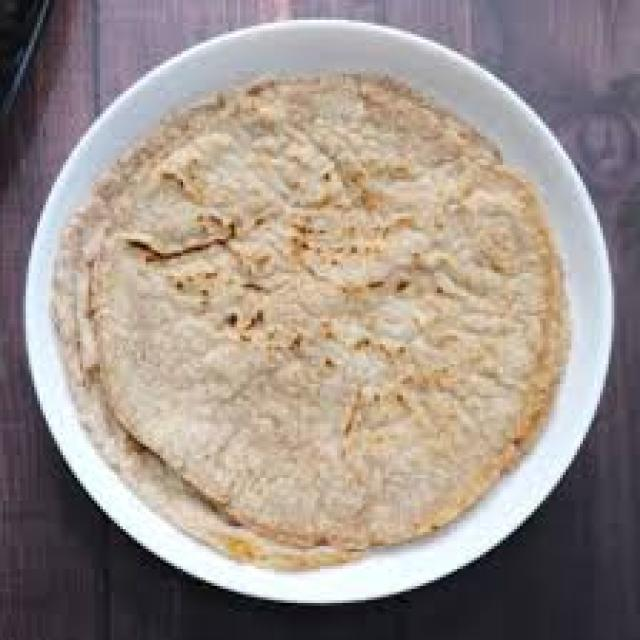RICE BHAKRI: (46, 69, 571, 564)
